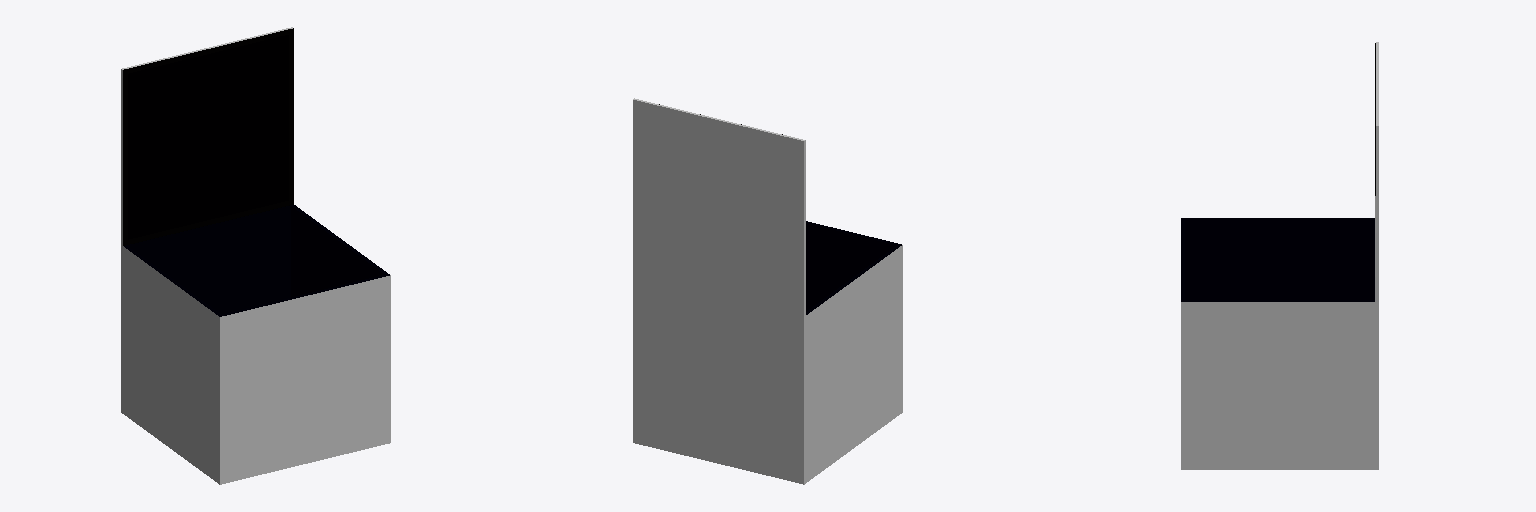
File: TestBoxMain.obj
The picture shows the model from 3 angles: view 1: azimuth 30°, elevation 25°; view 2: azimuth 150°, elevation 25°; view 3: azimuth 270°, elevation 25°; orthographic projection.
Visible parts, largest first — view 1: SmBoxBase160x160h150, SmBoxTop160x160; view 2: SmBoxBase160x160h150, SmBoxTop160x160; view 3: SmBoxBase160x160h150, SmBoxTop160x160.
Part boxes in pixels (x1,y1,x2,y2): SmBoxBase160x160h150: (121,205,390,484); SmBoxTop160x160: (121,27,293,245); SmBoxBase160x160h150: (633,221,902,484); SmBoxTop160x160: (633,98,805,316); SmBoxBase160x160h150: (1181,218,1378,469); SmBoxTop160x160: (1375,42,1378,301).
Size of the model in its own units: 0.16 by 0.3072 by 0.1603.